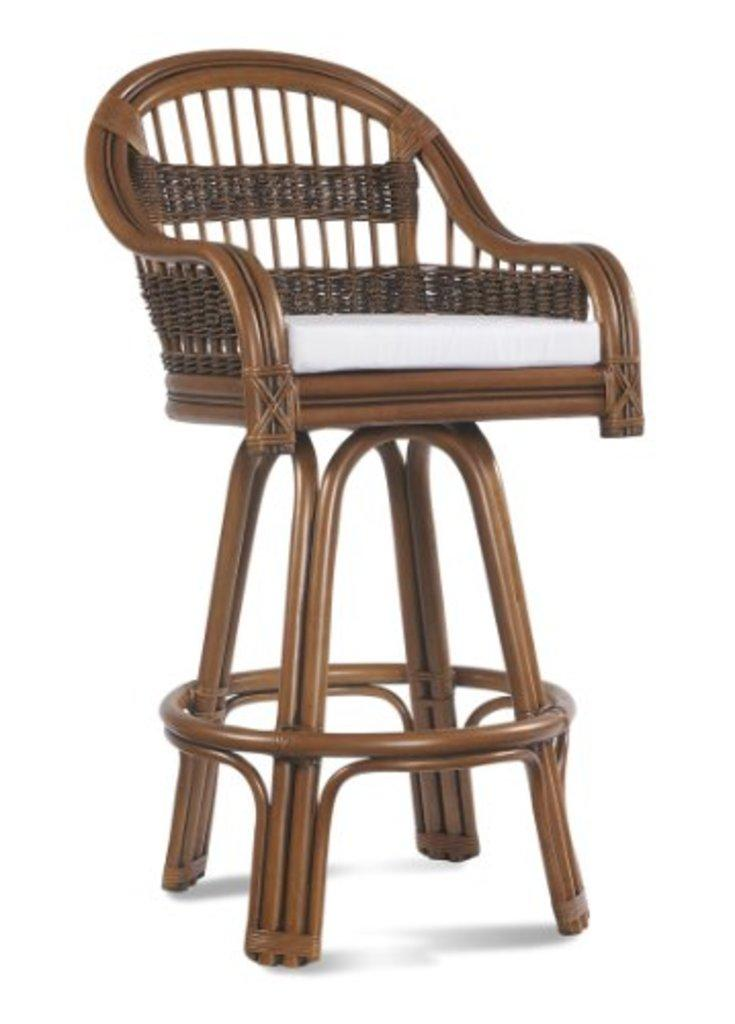Chair: (90, 10, 643, 903)
